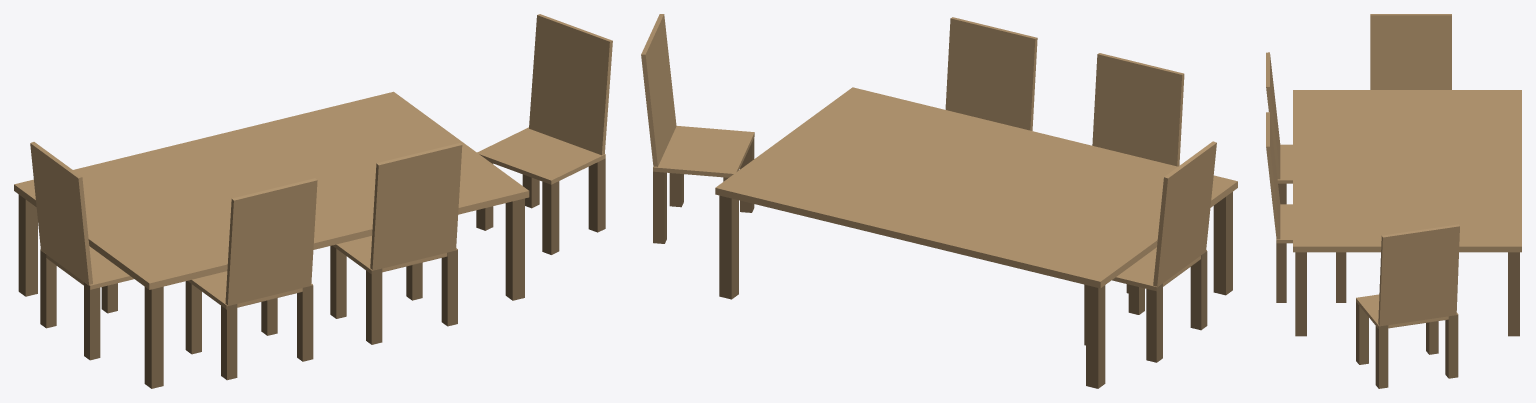
The model's file is grandeTable.fbx.
The picture shows the model from 3 angles, left to right: view 1: azimuth 30°, elevation 25°; view 2: azimuth 150°, elevation 25°; view 3: azimuth 270°, elevation 25°; orthographic projection. The views are drawn at different scales.
Parts seen in each view (by area): view 1: Cube.519, Cube.518, Cube.516, Cube.517, Cube.515; view 2: Cube.519, Cube.515, Cube.518, Cube.516, Cube.517; view 3: Cube.519, Cube.518, Cube.515, Cube.517, Cube.516.
Part boxes in pixels (bbox=[...]): Cube.519: bbox=[14, 91, 529, 388]; Cube.518: bbox=[476, 14, 612, 254]; Cube.516: bbox=[185, 178, 317, 380]; Cube.517: bbox=[330, 143, 462, 344]; Cube.515: bbox=[30, 142, 133, 360]; Cube.519: bbox=[715, 87, 1237, 388]; Cube.515: bbox=[1084, 141, 1216, 362]; Cube.518: bbox=[641, 14, 754, 243]; Cube.516: bbox=[1092, 53, 1184, 293]; Cube.517: bbox=[945, 17, 1037, 130]; Cube.519: bbox=[1293, 90, 1521, 336]; Cube.518: bbox=[1356, 224, 1459, 388]; Cube.515: bbox=[1370, 14, 1451, 89]; Cube.517: bbox=[1266, 112, 1346, 302]; Cube.516: bbox=[1266, 52, 1292, 204].
Size of the model in its own units: 392 by 128 by 190.
